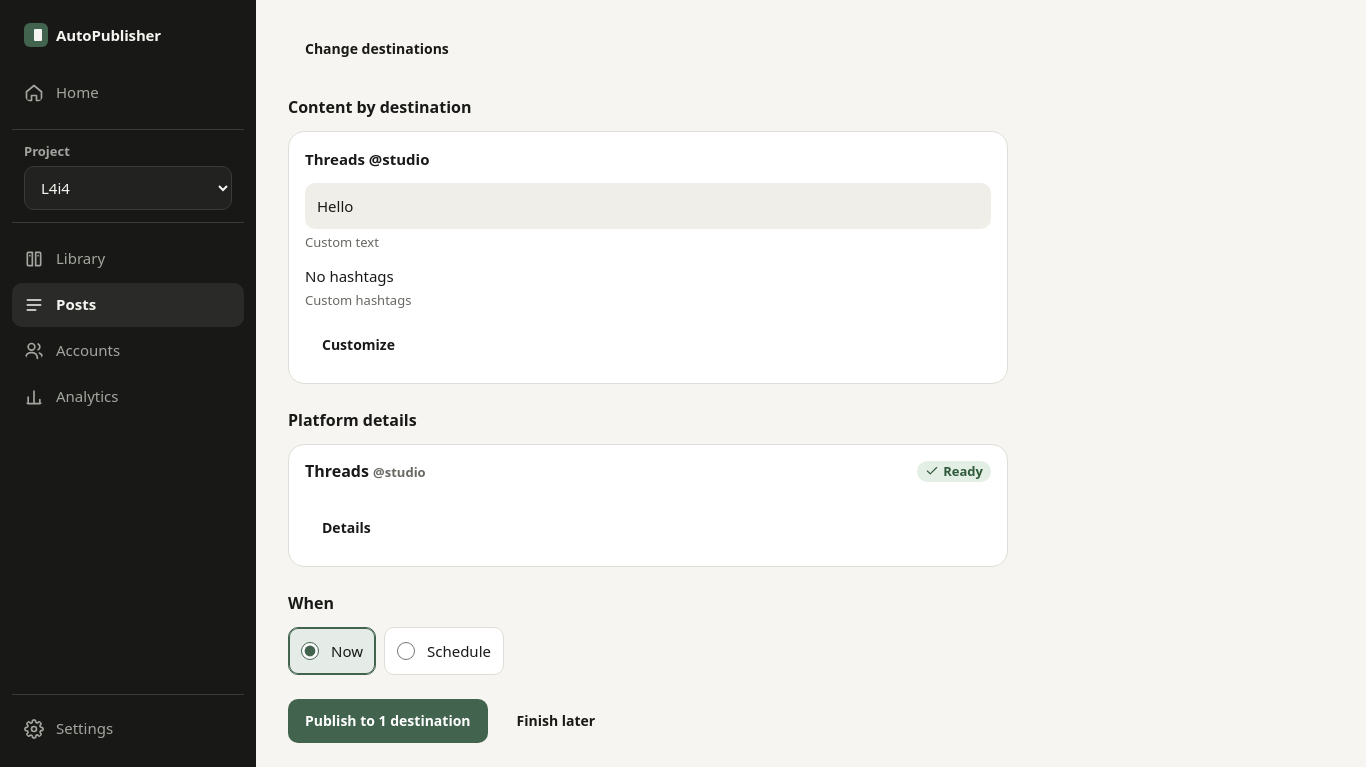
Test: Finish later leaves for Posts → Drafts, and Continue setup comes back to that draft
(page scrolled)
Expected: the element "Threads @studio Ready Details" is shown, [288,444,1008,567]
Click the button "Finish later" at (556, 721), box [500,699,612,743]
(page scrolled)
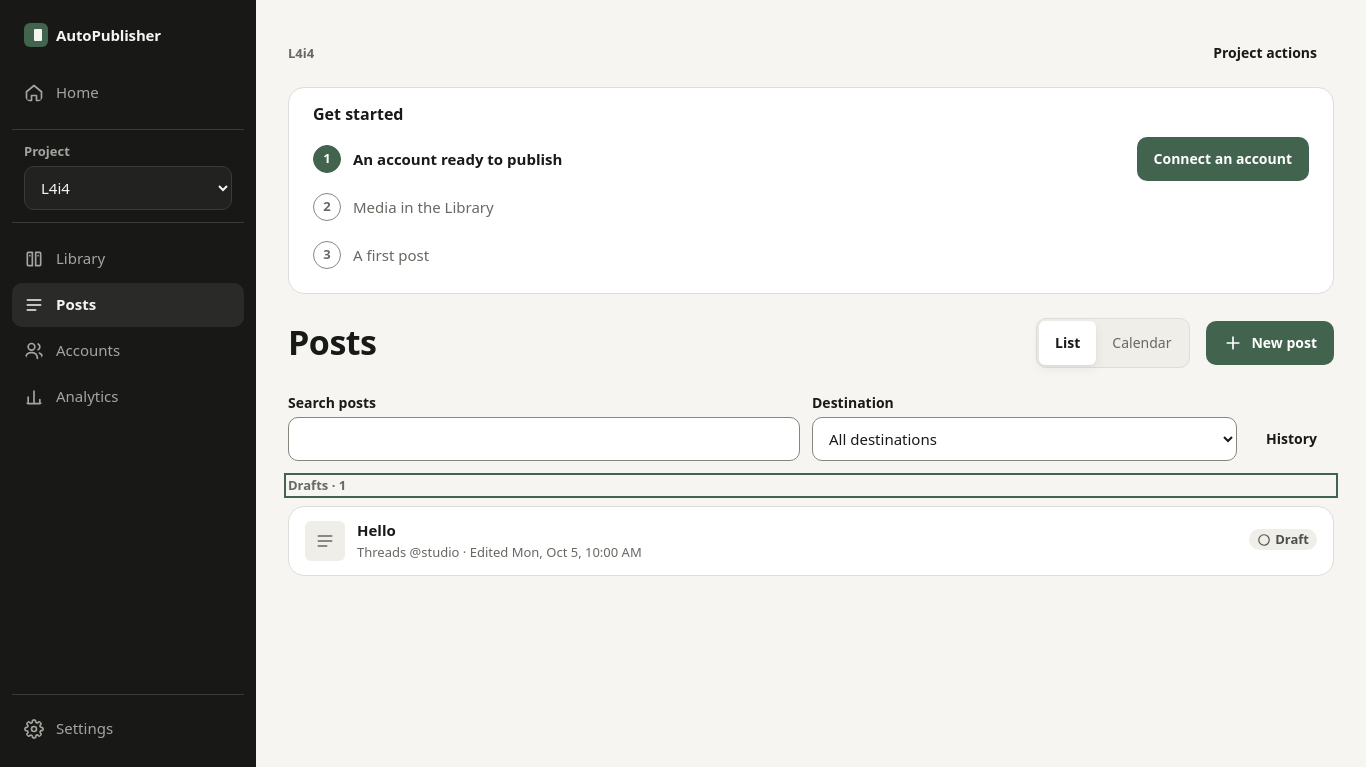
Click the link "Hello Threads @studio · Edited Mon, Oct 5, 10:00 AM Draft" at (325, 541), box [289,507,1333,575]
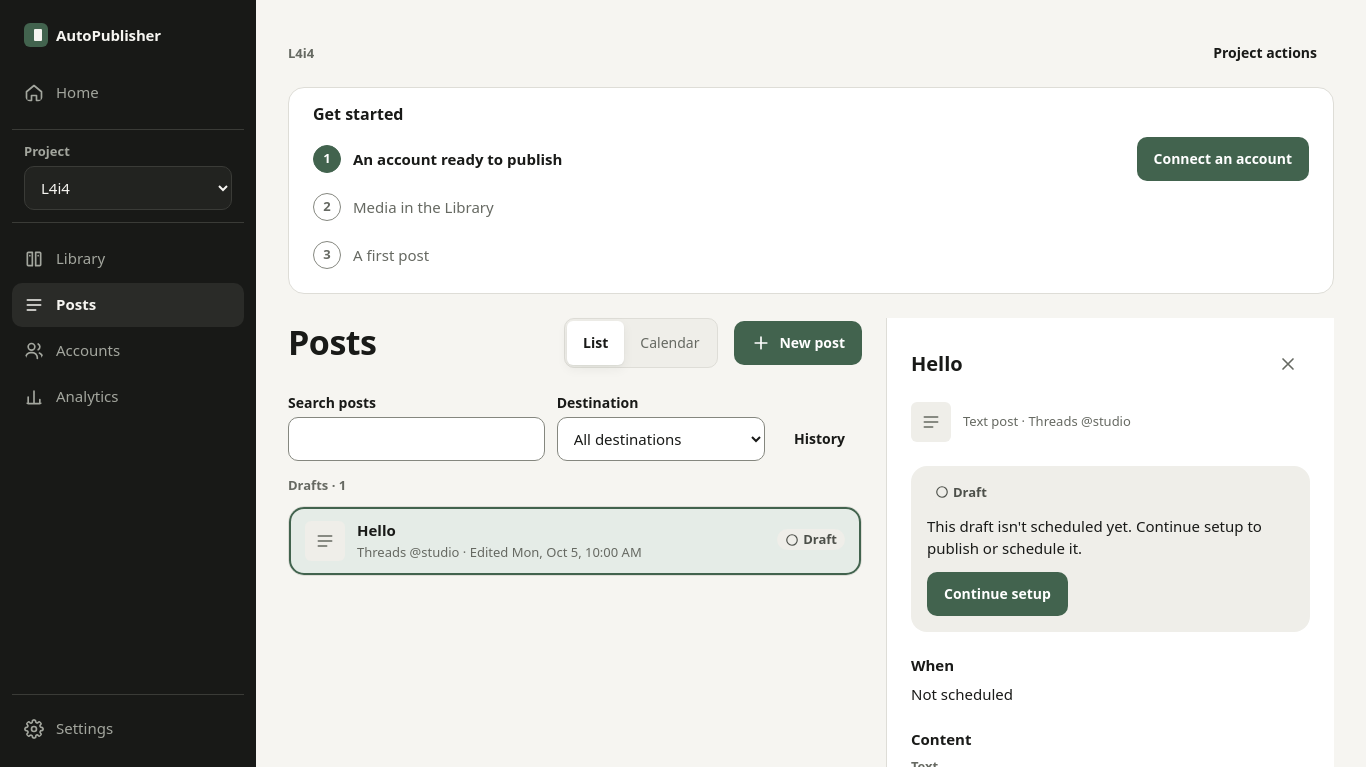
Click the button "Continue setup" at (997, 594), box [927,572,1068,616]
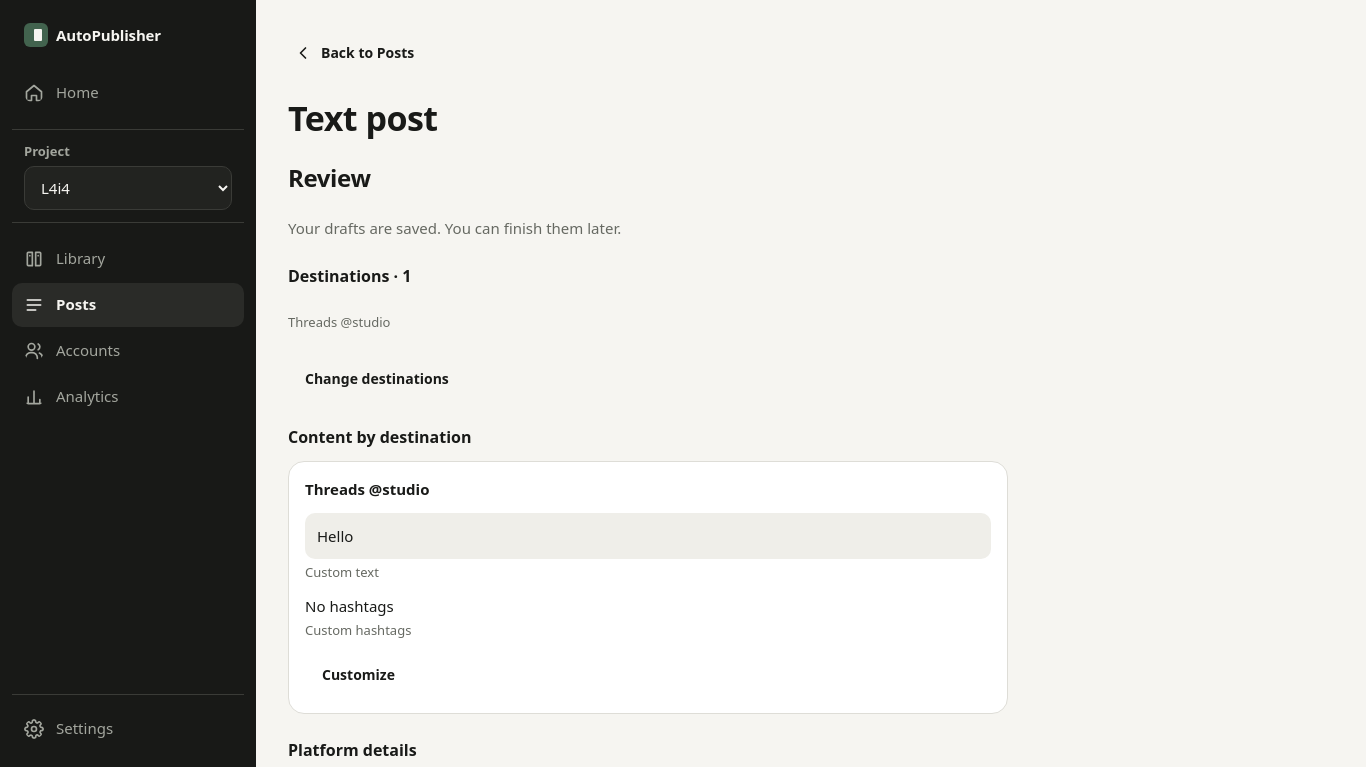
Expected: the heading "Review" is shown, [288,161,371,194]
